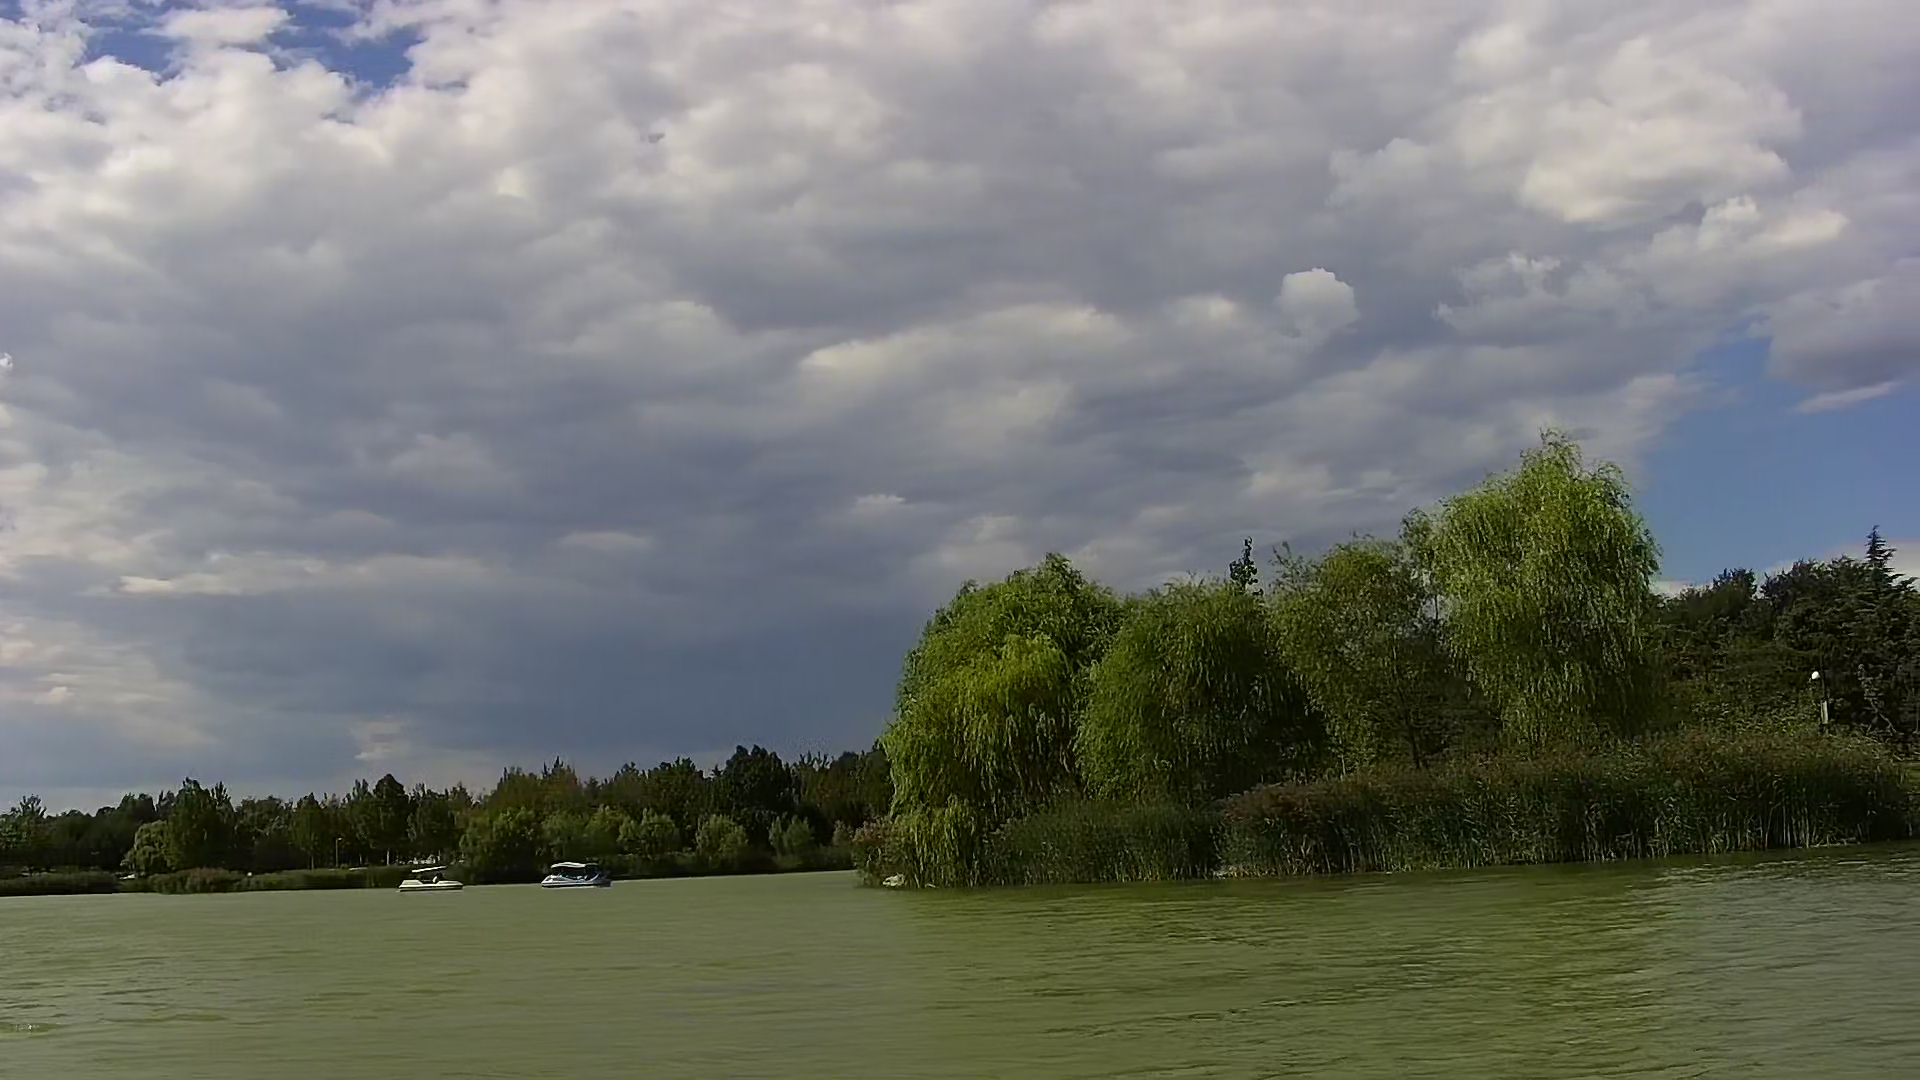boat: (539, 860, 612, 891), (397, 864, 465, 893)
rock: (873, 874, 905, 891)
